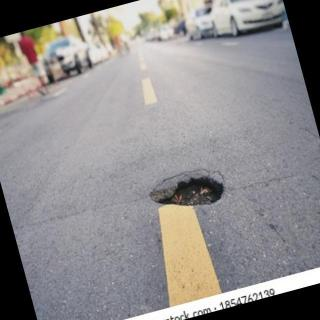pothole: (149, 171, 224, 208)
